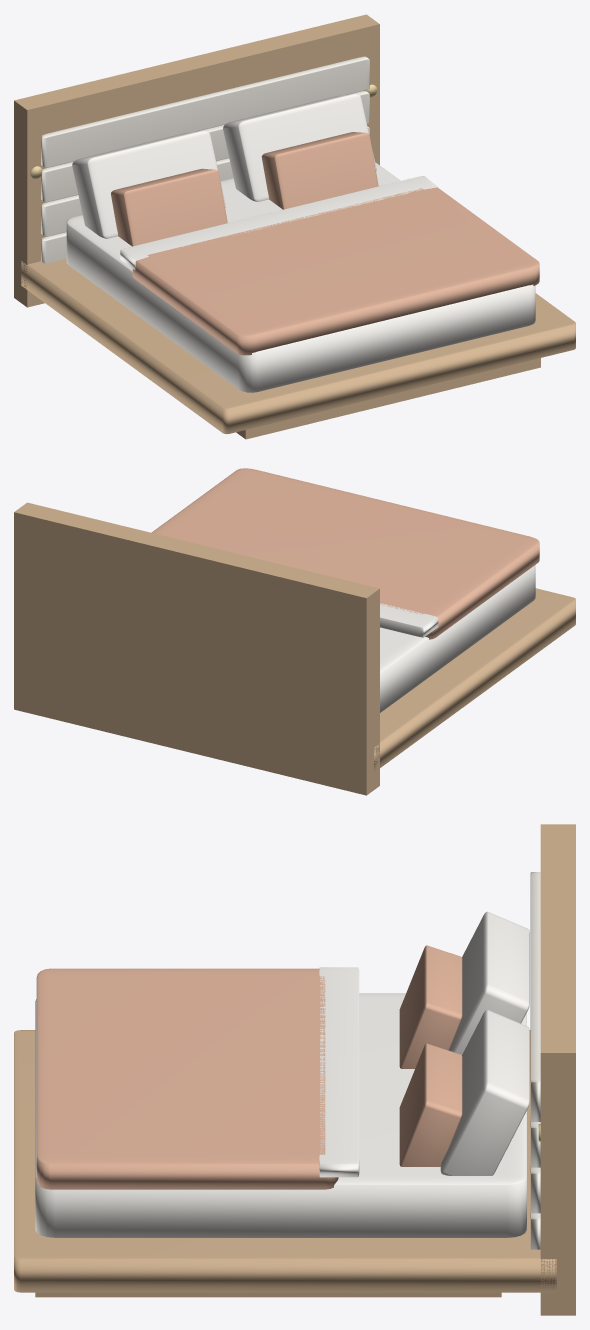
The model's file is bed_king.glb.
The picture shows the model from 3 angles, top to bottom: view 1: azimuth 30°, elevation 25°; view 2: azimuth 150°, elevation 25°; view 3: azimuth 270°, elevation 25°; orthographic projection. The views are drawn at different scales.
Visible parts, largest first — view 1: Cube.008, Cube.001, Cube.007, Cube.002, Cube.006, Cube.010, Cube.012, Cube.013, Cube.011, Cube.009, Cube, Cube.005 (+2 smaller); view 2: Cube.002, Cube.008, Cube.001, Cube.007, Cube.009; view 3: Cube.008, Cube.007, Cube.001, Cube.002, Cube.012, Cube.009, Cube.010, Cube.013, Cube.011, Cube, Cube.006.
Boxes of the visible parts, x1,y1,x2,y2 form: Cube.008: (132, 187, 539, 355); Cube.001: (21, 259, 575, 434); Cube.007: (66, 162, 535, 392); Cube.002: (14, 14, 379, 307); Cube.006: (41, 56, 369, 167); Cube.010: (72, 130, 225, 238); Cube.012: (223, 94, 376, 201); Cube.013: (261, 132, 378, 209); Cube.011: (111, 168, 227, 246); Cube.009: (120, 176, 438, 269); Cube: (236, 358, 540, 439); Cube.005: (41, 91, 369, 202); Cube.002: (14, 502, 379, 795); Cube.008: (151, 468, 539, 639); Cube.001: (374, 588, 575, 771); Cube.007: (380, 565, 535, 712); Cube.009: (380, 603, 438, 637); Cube.008: (36, 968, 338, 1189); Cube.007: (35, 993, 526, 1237); Cube.001: (14, 1030, 556, 1292); Cube.002: (540, 824, 575, 1315); Cube.012: (440, 1009, 529, 1175); Cube.009: (319, 967, 359, 1177); Cube.010: (448, 911, 529, 1054); Cube.013: (399, 1043, 462, 1166); Cube.011: (399, 945, 462, 1068); Cube: (35, 1292, 501, 1297); Cube.006: (530, 872, 540, 1121).
Bounding box in the file's own units: 2.15 × 1.15 × 2.23.
